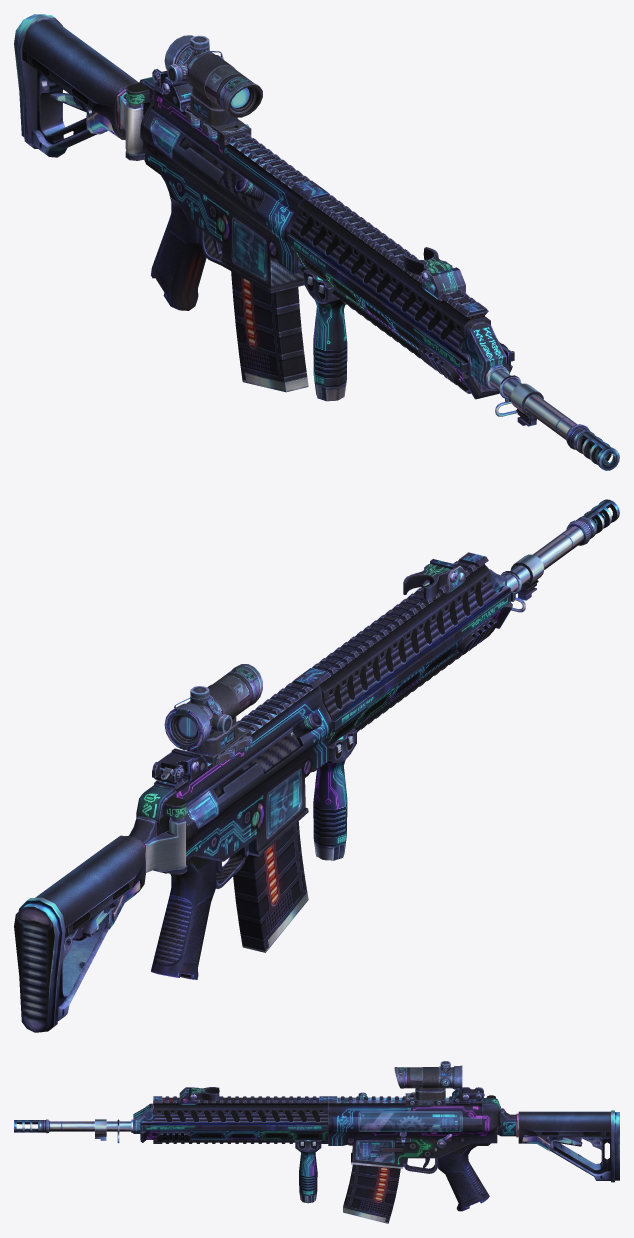
File: pindad_ss3_neon.glb
The picture shows the model from 3 angles, top to bottom: view 1: azimuth 30°, elevation 25°; view 2: azimuth 150°, elevation 25°; view 3: azimuth 270°, elevation 25°; orthographic projection. The views are drawn at different scales.
Parts seen in each view (by area): view 1: Pindad_SS3, Model_Magazine, Combat_Sight_Mepro_X6, Model_Handle; view 2: Pindad_SS3, Model_Magazine, Combat_Sight_Mepro_X6, Model_Handle; view 3: Pindad_SS3, Model_Magazine, Combat_Sight_Mepro_X6.
Boxes of the visible parts, box(x1,y1,x2,y2) form: Pindad_SS3: box(14, 14, 619, 470); Model_Magazine: box(231, 271, 308, 392); Combat_Sight_Mepro_X6: box(164, 35, 262, 145); Model_Handle: box(217, 162, 265, 210); Pindad_SS3: box(14, 499, 619, 1032); Model_Magazine: box(233, 821, 308, 952); Combat_Sight_Mepro_X6: box(164, 664, 262, 767); Model_Handle: box(217, 712, 322, 790); Pindad_SS3: box(14, 1087, 619, 1211); Model_Magazine: box(343, 1164, 400, 1223); Combat_Sight_Mepro_X6: box(394, 1061, 462, 1105).
Size of the model in its own units: 0.0695 by 0.2888 by 1.
2 materials, 2 textured.
